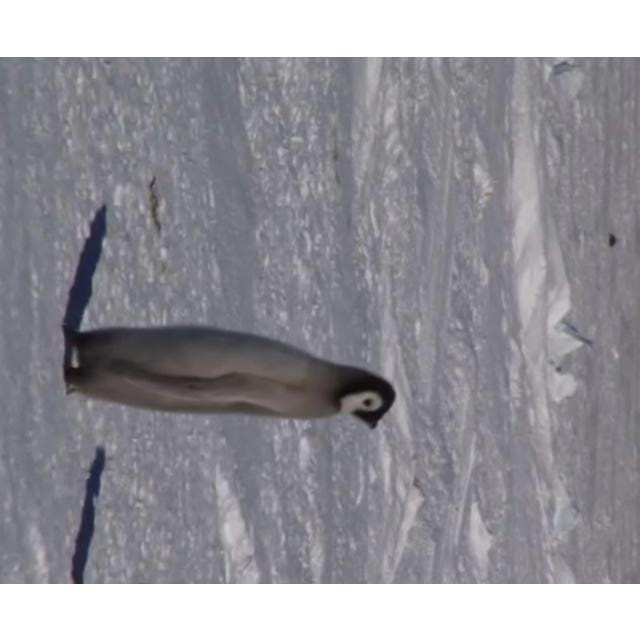penguin: (60, 323, 396, 431)
